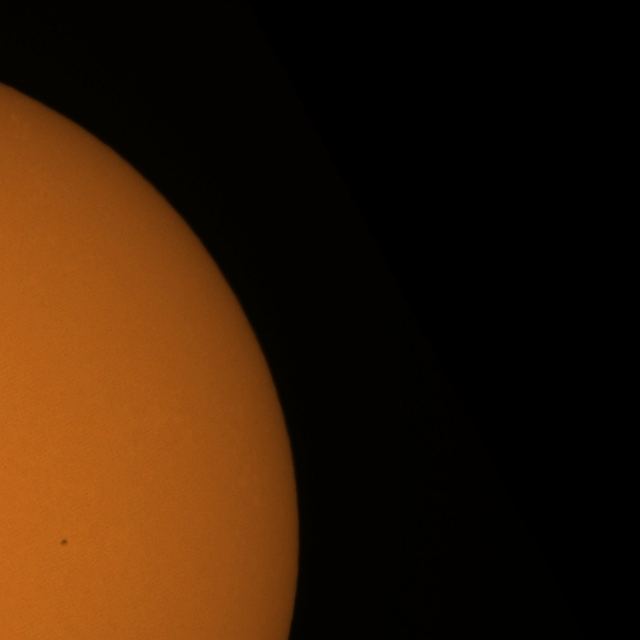sunspot: (59, 538, 69, 548)
